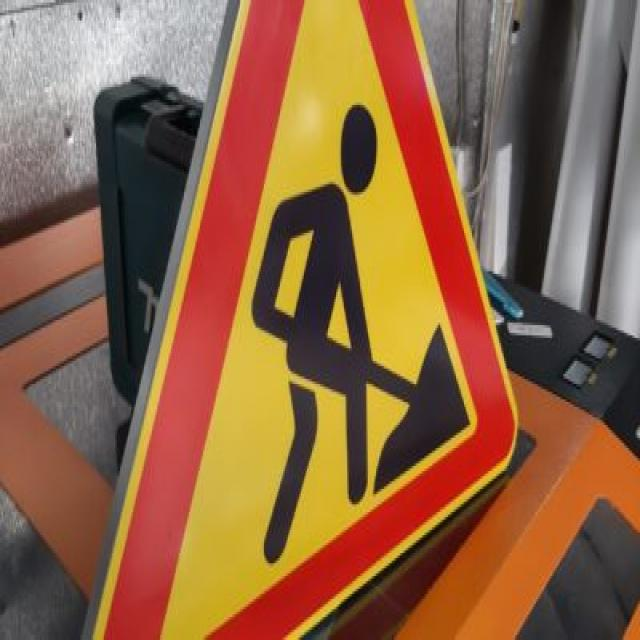roadwork: (75, 0, 520, 637)
